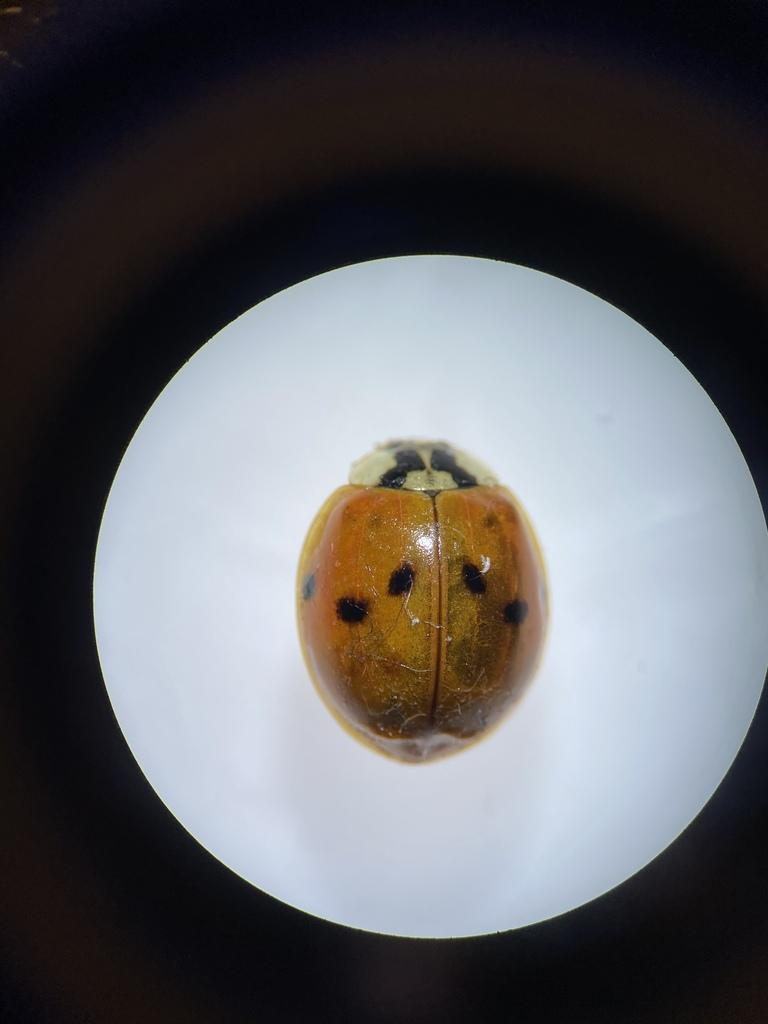ladybug: (294, 436, 556, 766)
